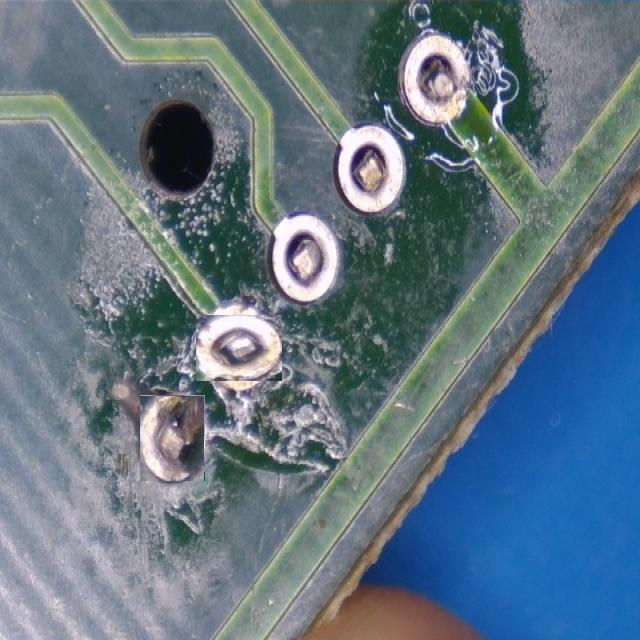Dry_joint: (197, 315, 282, 380), (141, 395, 203, 481)
